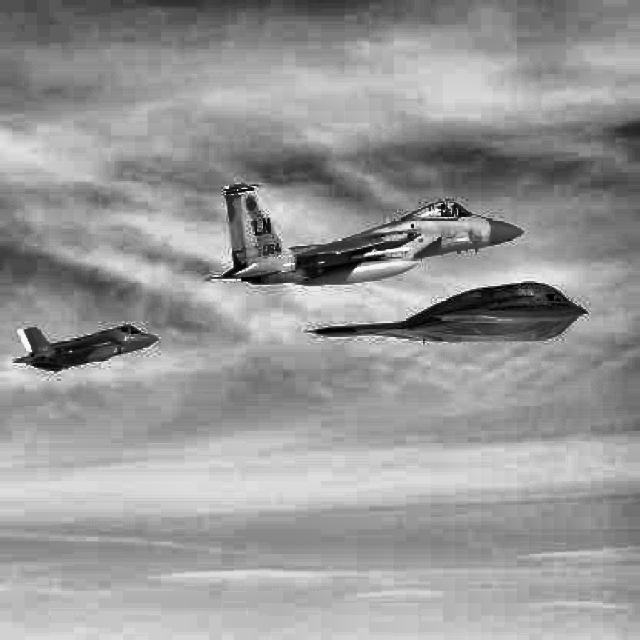B2: (303, 281, 588, 344)
F15: (205, 182, 524, 287)
F35: (14, 325, 158, 372)
